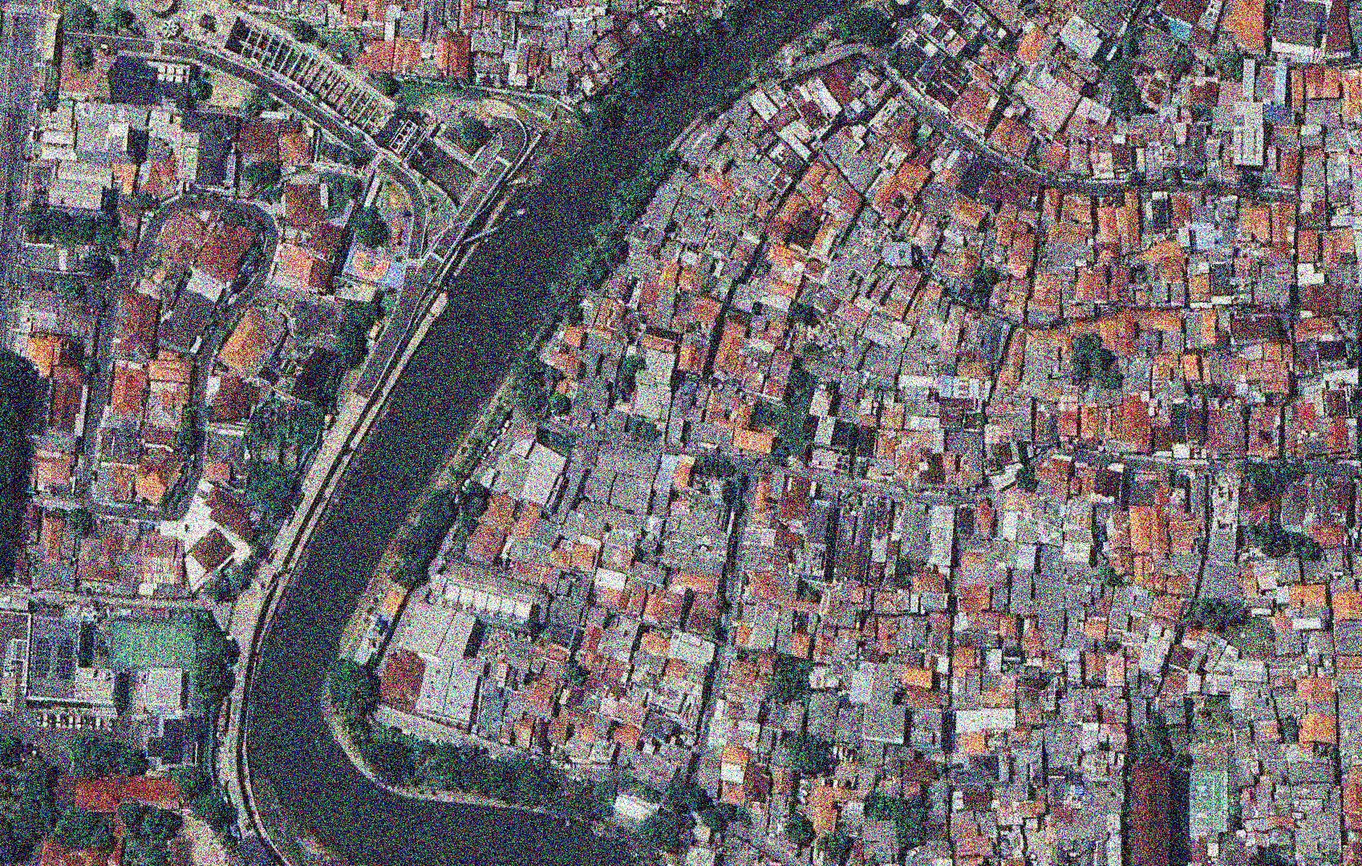building: (212, 8, 433, 168), (148, 496, 250, 597), (212, 301, 290, 386), (154, 273, 226, 363), (620, 666, 706, 730), (183, 476, 266, 542), (103, 53, 194, 111), (399, 601, 477, 668), (25, 618, 81, 710), (178, 113, 239, 197), (264, 288, 349, 348), (188, 215, 256, 289), (122, 434, 190, 508), (440, 581, 536, 633), (1126, 761, 1174, 865), (191, 368, 262, 438), (908, 3, 987, 65), (14, 286, 99, 343), (414, 658, 482, 728), (152, 198, 216, 268), (947, 75, 1012, 141), (1267, 0, 1332, 65), (111, 285, 161, 364), (1198, 527, 1247, 602), (917, 54, 977, 114), (290, 346, 345, 411), (130, 523, 183, 586), (200, 431, 249, 498), (1055, 14, 1115, 68), (376, 648, 426, 712), (943, 232, 991, 298), (867, 496, 902, 586), (889, 204, 945, 260), (71, 119, 139, 165), (1031, 79, 1084, 136), (145, 716, 203, 768), (976, 165, 1042, 210), (136, 138, 185, 198), (987, 113, 1042, 166), (1132, 26, 1188, 78), (827, 235, 881, 288), (546, 462, 589, 528), (1220, 0, 1271, 55), (968, 37, 1023, 88), (1033, 546, 1065, 633), (723, 164, 783, 210), (613, 744, 677, 787), (865, 646, 908, 710), (816, 115, 866, 170), (1018, 339, 1063, 400), (572, 497, 642, 536), (74, 530, 124, 584), (668, 493, 736, 532), (1293, 810, 1344, 862), (867, 174, 917, 227), (595, 440, 659, 481), (825, 501, 858, 580), (848, 205, 900, 255), (878, 262, 923, 319), (141, 378, 190, 430), (479, 449, 531, 498), (1009, 20, 1059, 70), (1199, 398, 1241, 457), (1302, 471, 1346, 527), (1118, 467, 1173, 511), (508, 435, 568, 475), (280, 176, 327, 227), (805, 212, 850, 265), (1232, 101, 1267, 169), (595, 612, 640, 664), (859, 309, 911, 354), (1279, 475, 1323, 528), (107, 361, 147, 419), (776, 114, 825, 161), (990, 760, 1037, 809), (121, 775, 184, 811), (72, 666, 121, 712), (1190, 627, 1239, 673), (996, 326, 1030, 392), (981, 439, 1024, 491), (970, 312, 1012, 365), (96, 417, 142, 465), (910, 46, 956, 94), (760, 348, 798, 406), (24, 241, 90, 274), (1186, 0, 1227, 53), (1150, 0, 1211, 35), (1246, 403, 1284, 459), (268, 243, 314, 289), (1081, 143, 1127, 189), (517, 464, 562, 511), (1056, 808, 1122, 840), (743, 568, 801, 604), (737, 340, 774, 396), (799, 414, 855, 451), (1299, 154, 1327, 228), (822, 178, 867, 224), (141, 670, 188, 714), (711, 332, 750, 385), (1076, 0, 1129, 39), (700, 385, 742, 434), (638, 182, 680, 231), (856, 258, 898, 307), (898, 502, 932, 562), (48, 383, 87, 435), (1051, 685, 1096, 730), (792, 150, 835, 197), (1323, 0, 1355, 63), (1069, 264, 1108, 315), (1127, 504, 1166, 555), (48, 180, 108, 213), (839, 150, 883, 195), (914, 175, 958, 220), (1134, 70, 1178, 115), (463, 521, 506, 567), (951, 755, 1009, 789), (805, 495, 843, 546), (899, 335, 943, 379), (580, 335, 623, 380), (943, 190, 989, 232), (238, 116, 279, 163), (630, 383, 671, 430), (1120, 394, 1152, 454), (946, 0, 996, 38), (11, 333, 54, 377), (635, 281, 676, 327), (1303, 548, 1356, 583), (572, 372, 616, 414), (305, 215, 346, 260), (861, 704, 906, 745), (803, 691, 839, 742), (1323, 369, 1362, 416), (926, 505, 955, 568), (954, 705, 1017, 734), (1242, 787, 1290, 825), (550, 538, 599, 575), (890, 38, 932, 81), (858, 341, 902, 382), (72, 776, 122, 812), (955, 155, 995, 200), (1115, 189, 1143, 253), (777, 475, 815, 522), (740, 525, 778, 572), (613, 249, 664, 284), (277, 121, 314, 169), (580, 43, 620, 87), (802, 75, 842, 119), (860, 819, 899, 864), (748, 601, 781, 654), (1229, 313, 1287, 343), (1293, 377, 1323, 435), (607, 475, 650, 515), (666, 632, 715, 667), (684, 592, 722, 637), (1325, 417, 1361, 464), (1218, 399, 1247, 457), (93, 463, 134, 504), (690, 755, 729, 798), (707, 719, 761, 750), (1209, 474, 1240, 528), (1245, 553, 1283, 597), (1291, 782, 1343, 814), (726, 657, 772, 693), (1270, 202, 1298, 261), (476, 491, 517, 531), (765, 137, 806, 177), (932, 218, 973, 258), (1124, 690, 1165, 730), (599, 531, 638, 573), (1135, 634, 1173, 677), (1233, 358, 1270, 402), (232, 829, 276, 866), (1227, 710, 1281, 740), (474, 690, 507, 739), (1016, 513, 1065, 546), (30, 450, 76, 485), (684, 423, 734, 455), (712, 694, 762, 726), (892, 431, 923, 482), (56, 161, 114, 188), (506, 538, 552, 572), (546, 570, 592, 604), (854, 60, 894, 99), (817, 66, 855, 107), (1139, 140, 1177, 181), (638, 712, 675, 754), (761, 242, 808, 275), (909, 709, 945, 752), (1111, 584, 1154, 620), (951, 822, 994, 858), (561, 512, 605, 547), (588, 297, 623, 341), (675, 333, 710, 377), (1060, 574, 1095, 618), (1040, 244, 1091, 274), (890, 118, 929, 157), (634, 348, 675, 385), (1178, 347, 1214, 389), (989, 0, 1031, 36), (939, 303, 969, 353), (796, 98, 834, 137), (1054, 839, 1111, 865), (941, 140, 978, 180), (1067, 461, 1103, 502), (985, 537, 1027, 572), (1091, 462, 1125, 505), (148, 352, 195, 383), (657, 585, 690, 629), (612, 308, 650, 346), (728, 273, 765, 312), (520, 673, 560, 709), (678, 174, 719, 209), (1255, 63, 1290, 104), (1074, 95, 1115, 130), (938, 375, 991, 402), (1149, 591, 1191, 625), (1282, 65, 1311, 114), (1079, 750, 1128, 779), (1328, 476, 1361, 519), (1298, 284, 1342, 316), (1135, 561, 1173, 598), (1002, 487, 1047, 518), (940, 398, 981, 432), (1167, 643, 1208, 677), (43, 844, 106, 866), (731, 428, 773, 461), (1121, 354, 1154, 396), (1081, 785, 1123, 818), (418, 36, 448, 82), (1113, 111, 1159, 141), (805, 377, 837, 420), (596, 31, 632, 69), (1177, 125, 1208, 169), (507, 501, 540, 542), (785, 213, 818, 254), (1178, 77, 1219, 110), (1327, 152, 1352, 206), (117, 195, 141, 251), (612, 794, 658, 823), (556, 684, 599, 715), (501, 636, 537, 673), (864, 97, 901, 133), (1029, 270, 1065, 307), (1062, 529, 1098, 566), (674, 213, 712, 248), (1170, 470, 1205, 508), (354, 39, 393, 73), (386, 6, 425, 40), (1023, 60, 1062, 94), (1293, 315, 1342, 342), (818, 269, 858, 302), (904, 284, 935, 326), (1134, 307, 1184, 333), (1336, 674, 1361, 726), (900, 685, 948, 712), (1162, 192, 1199, 227), (978, 15, 1015, 50), (559, 22, 597, 56), (1058, 192, 1096, 226), (1026, 327, 1072, 355), (695, 164, 734, 197), (1304, 66, 1343, 99), (798, 542, 831, 581), (599, 659, 631, 699), (638, 323, 678, 355), (1240, 492, 1280, 524), (667, 570, 718, 595), (834, 707, 865, 748), (741, 762, 772, 803), (1252, 278, 1293, 309), (37, 517, 64, 564), (616, 16, 652, 51), (895, 157, 931, 192), (776, 191, 811, 227), (848, 660, 876, 705), (1010, 397, 1038, 442), (687, 295, 724, 329), (918, 292, 952, 329), (1168, 520, 1205, 554), (1015, 81, 1052, 115), (750, 470, 772, 527), (303, 256, 335, 295), (1097, 686, 1129, 725), (1028, 0, 1082, 23), (1284, 431, 1328, 459), (1103, 507, 1131, 551), (1006, 713, 1040, 749), (1076, 775, 1127, 799), (1046, 222, 1093, 248), (1291, 340, 1324, 377), (693, 528, 731, 560), (1160, 691, 1192, 729), (1208, 261, 1235, 306), (1058, 387, 1080, 442), (1303, 98, 1343, 128), (1298, 714, 1338, 744), (560, 85, 594, 120), (662, 520, 696, 555), (1242, 204, 1271, 245), (581, 468, 614, 504), (1107, 263, 1134, 307), (1258, 362, 1291, 398), (1147, 504, 1169, 558), (860, 168, 891, 206), (989, 217, 1027, 248), (1321, 229, 1352, 267), (1019, 616, 1047, 658), (1009, 570, 1034, 617), (145, 111, 184, 141), (1034, 402, 1060, 447), (1229, 685, 1272, 712), (567, 435, 601, 469), (1011, 729, 1045, 763), (52, 338, 87, 371), (526, 516, 561, 549), (877, 141, 910, 176), (761, 214, 794, 249), (1151, 395, 1187, 427), (842, 579, 878, 611), (1209, 104, 1246, 135), (548, 598, 586, 628), (552, 705, 590, 735), (656, 740, 694, 770), (1340, 67, 1361, 121), (1285, 745, 1339, 766), (1045, 745, 1084, 774), (1188, 471, 1211, 520), (808, 286, 842, 319), (956, 568, 1015, 587), (689, 475, 729, 503), (977, 235, 1012, 267), (883, 744, 915, 779), (651, 451, 677, 494), (1142, 238, 1185, 264), (840, 334, 871, 370), (1234, 741, 1287, 762), (951, 668, 981, 705), (628, 560, 669, 587), (735, 602, 759, 648), (1287, 761, 1335, 784), (1061, 633, 1109, 656), (1206, 139, 1231, 183), (258, 441, 297, 469), (744, 151, 777, 184), (1001, 246, 1034, 279), (572, 66, 604, 100), (757, 291, 792, 322), (1211, 643, 1242, 678), (1218, 834, 1253, 865), (1156, 554, 1203, 577), (843, 789, 867, 834), (668, 380, 694, 421), (1286, 583, 1327, 609), (856, 132, 889, 164), (1061, 110, 1093, 143), (984, 391, 1016, 424), (1063, 499, 1096, 531), (1180, 623, 1214, 654), (1026, 300, 1065, 327), (844, 544, 871, 583), (926, 249, 956, 284), (835, 299, 870, 329), (717, 742, 752, 772), (112, 556, 138, 596), (872, 617, 898, 657), (1043, 135, 1069, 175), (392, 40, 420, 77), (38, 430, 81, 454), (1292, 654, 1335, 678), (1161, 671, 1204, 695), (36, 562, 74, 589), (685, 382, 710, 423), (1095, 204, 1120, 245), (600, 270, 631, 303), (703, 227, 736, 258), (493, 663, 527, 693), (956, 728, 990, 758), (138, 424, 177, 450), (1066, 139, 1092, 178), (1097, 314, 1123, 353), (973, 495, 996, 539), (503, 46, 527, 88), (511, 560, 547, 588), (612, 700, 648, 728), (682, 555, 724, 579), (1149, 191, 1173, 233), (1185, 272, 1213, 308), (1016, 686, 1056, 711), (630, 648, 667, 675), (1066, 56, 1103, 83), (1189, 834, 1221, 865), (705, 273, 735, 306), (1277, 149, 1301, 190), (956, 585, 991, 613), (1296, 677, 1335, 702), (1036, 455, 1072, 482), (108, 815, 127, 866), (747, 89, 778, 120), (766, 103, 798, 133), (765, 764, 795, 796), (1219, 147, 1243, 187), (535, 67, 568, 96), (501, 689, 530, 722), (638, 627, 671, 656), (836, 367, 865, 400), (588, 735, 616, 769), (1333, 621, 1361, 655), (1145, 617, 1179, 645), (9, 551, 34, 589), (572, 650, 607, 677), (718, 198, 753, 225), (903, 404, 938, 431), (591, 586, 630, 610), (766, 265, 802, 291), (1080, 119, 1116, 145), (739, 114, 769, 145), (1135, 326, 1166, 356), (609, 719, 641, 748), (1121, 630, 1150, 662), (671, 454, 696, 491), (782, 699, 807, 736), (1269, 654, 1306, 679), (473, 54, 501, 87), (641, 549, 685, 570), (549, 353, 582, 381), (1101, 406, 1123, 448), (1151, 354, 1185, 381), (832, 630, 859, 664), (21, 505, 40, 553), (1040, 186, 1064, 224), (854, 505, 875, 548), (547, 622, 577, 652), (1230, 277, 1260, 307), (108, 163, 136, 195), (1155, 255, 1187, 283), (982, 416, 1014, 444), (592, 568, 626, 594), (827, 312, 861, 338), (731, 840, 765, 866), (1089, 582, 1115, 616), (1080, 406, 1101, 448), (926, 782, 948, 822), (945, 432, 983, 455), (724, 104, 753, 134), (1331, 591, 1361, 620), (562, 734, 593, 762), (533, 643, 569, 667), (732, 140, 759, 172), (1001, 292, 1028, 324), (1192, 195, 1219, 227), (772, 549, 804, 576), (448, 38, 468, 81), (876, 431, 896, 474), (818, 582, 840, 621), (1163, 499, 1196, 525), (732, 394, 755, 431), (1232, 661, 1269, 684), (981, 671, 1018, 694), (919, 449, 944, 483), (1190, 222, 1219, 251), (1185, 253, 1214, 282), (1186, 401, 1206, 443), (1305, 630, 1336, 657), (995, 801, 1026, 828), (512, 712, 534, 750), (1339, 726, 1361, 764), (773, 525, 805, 551), (1253, 718, 1285, 744), (1049, 726, 1081, 752), (1259, 261, 1295, 284), (1296, 229, 1321, 262), (1205, 242, 1238, 267), (1084, 653, 1109, 686), (911, 572, 945, 596), (529, 659, 566, 681), (955, 359, 992, 381), (765, 167, 793, 196), (1275, 556, 1303, 585), (1274, 629, 1304, 656), (656, 260, 682, 291), (1326, 263, 1361, 286), (720, 302, 752, 327), (951, 791, 991, 811), (1047, 775, 1072, 807), (1092, 263, 1113, 301), (853, 425, 877, 458), (1315, 339, 1348, 363), (764, 81, 792, 109), (832, 57, 860, 85), (662, 166, 689, 195), (794, 278, 820, 308), (1271, 124, 1301, 150), (882, 243, 913, 268), (747, 800, 772, 831), (1170, 402, 1188, 445), (763, 278, 798, 300), (1063, 652, 1085, 687), (1079, 688, 1101, 723), (708, 211, 740, 235), (1037, 479, 1069, 503), (1348, 0, 1361, 59), (859, 742, 882, 775), (1238, 341, 1266, 368), (1203, 673, 1239, 694), (1216, 194, 1242, 223), (578, 624, 603, 654), (951, 645, 981, 670), (899, 666, 933, 688), (640, 594, 664, 625), (1349, 154, 1361, 216), (531, 718, 551, 755), (897, 374, 938, 392), (622, 279, 645, 311), (807, 666, 839, 689), (1242, 59, 1259, 102), (751, 127, 778, 154), (1013, 544, 1040, 571), (704, 113, 730, 141), (818, 166, 844, 194), (855, 401, 881, 429), (1275, 697, 1308, 719), (668, 194, 693, 223), (848, 290, 877, 315), (1270, 680, 1299, 705), (684, 845, 718, 866), (1313, 524, 1345, 546), (1295, 606, 1332, 625), (840, 97, 867, 123), (801, 256, 828, 282), (1214, 308, 1232, 347), (1185, 310, 1203, 349), (1103, 0, 1142, 18), (747, 328, 782, 348), (1113, 334, 1141, 359), (341, 2, 365, 31), (622, 590, 646, 619), (931, 166, 960, 190), (810, 637, 834, 666), (1324, 128, 1353, 152), (1105, 654, 1126, 687), (1150, 422, 1173, 452), (1165, 573, 1195, 596), (955, 501, 974, 537), (901, 761, 935, 781), (299, 2, 325, 28), (586, 712, 612, 738), (691, 132, 717, 158), (675, 268, 702, 293), (722, 122, 749, 147), (934, 133, 959, 160), (1082, 614, 1109, 639), (528, 48, 549, 80), (1216, 81, 1244, 105), (769, 472, 793, 500), (1261, 759, 1289, 783), (1234, 759, 1258, 787), (426, 0, 444, 37), (1152, 381, 1189, 399), (496, 11, 516, 44), (1240, 565, 1260, 598), (1067, 607, 1089, 637), (987, 280, 1008, 311), (1056, 68, 1087, 89), (704, 147, 730, 172), (672, 292, 696, 319), (658, 239, 682, 266), (812, 807, 836, 834), (1109, 609, 1133, 636), (1140, 674, 1167, 698), (1214, 352, 1233, 386), (982, 690, 1016, 709), (546, 717, 569, 745), (1296, 262, 1324, 285), (1234, 257, 1262, 280), (1117, 311, 1140, 339), (1001, 828, 1024, 856), (1263, 105, 1295, 125), (1304, 699, 1336, 719), (1339, 286, 1361, 315), (1263, 342, 1292, 364), (1111, 548, 1133, 577), (1342, 832, 1361, 865), (786, 83, 811, 108), (684, 149, 710, 173), (879, 404, 905, 428), (769, 795, 795, 819), (1159, 331, 1186, 354), (865, 372, 896, 392), (458, 654, 486, 676), (1111, 144, 1133, 172), (837, 605, 865, 627), (1236, 243, 1274, 259), (1342, 783, 1361, 815), (595, 692, 619, 717), (562, 325, 587, 349), (717, 136, 742, 160), (885, 106, 909, 131), (895, 589, 919, 614), (1301, 124, 1326, 148), (1096, 241, 1121, 265), (1041, 631, 1064, 657), (1041, 819, 1064, 845), (59, 524, 76, 559), (895, 616, 913, 649), (874, 776, 901, 798), (790, 633, 812, 660), (1201, 310, 1217, 347), (1001, 511, 1020, 542), (1244, 593, 1275, 612), (968, 612, 999, 631), (1133, 554, 1153, 583), (50, 366, 82, 384), (603, 408, 627, 432), (1259, 814, 1295, 830), (682, 661, 707, 684), (765, 317, 791, 339), (872, 592, 898, 614), (1166, 281, 1188, 307), (55, 107, 74, 137), (665, 417, 684, 447), (1070, 318, 1100, 337), (539, 30, 566, 51), (902, 386, 935, 403), (1329, 576, 1362, 593), (131, 607, 171, 621), (1094, 387, 1122, 407), (780, 598, 820, 612), (42, 128, 73, 146), (584, 606, 608, 629), (720, 781, 743, 805), (999, 613, 1022, 637), (1022, 656, 1045, 680), (1151, 280, 1173, 305), (566, 403, 592, 424), (736, 224, 762, 245), (989, 586, 1010, 612), (1060, 276, 1076, 310), (650, 492, 670, 519), (1255, 779, 1275, 806), (1081, 722, 1099, 752), (919, 592, 947, 611), (909, 621, 928, 649), (806, 183, 829, 206), (42, 144, 75, 160), (719, 260, 743, 282), (1329, 213, 1362, 229), (955, 612, 971, 645), (1105, 832, 1121, 865), (727, 246, 752, 267), (731, 235, 756, 256), (928, 612, 949, 637), (1003, 638, 1024, 663), (641, 515, 664, 537), (751, 199, 774, 221), (1220, 221, 1241, 245), (971, 631, 999, 649), (922, 821, 947, 841), (719, 762, 744, 782), (1240, 800, 1265, 820), (967, 454, 982, 487), (515, 28, 541, 47), (722, 320, 748, 339), (847, 839, 866, 865), (610, 8, 632, 30), (662, 659, 685, 680), (926, 129, 947, 152), (913, 144, 934, 167), (1292, 617, 1329, 630), (359, 23, 383, 43), (514, 421, 538, 441), (1021, 799, 1045, 819), (1011, 233, 1036, 252), (1336, 655, 1361, 674), (977, 811, 996, 836), (1040, 654, 1066, 672), (326, 1, 342, 30), (578, 672, 600, 693), (638, 533, 660, 554), (693, 251, 714, 273), (845, 77, 867, 98), (926, 633, 947, 655), (1274, 609, 1295, 631), (745, 312, 768, 332), (1133, 284, 1153, 307), (1107, 727, 1127, 750), (774, 632, 793, 656), (470, 39, 502, 53), (516, 15, 544, 31), (942, 451, 956, 483), (959, 551, 985, 568), (738, 191, 759, 212), (686, 200, 708, 220), (746, 215, 768, 235), (813, 786, 833, 808), (937, 352, 957, 374), (365, 1, 388, 20), (1015, 206, 1038, 225), (860, 615, 879, 638), (1, 596, 30, 611), (269, 2, 298, 17), (499, 717, 514, 746), (649, 7, 667, 31), (1161, 123, 1178, 148), (1008, 276, 1029, 296), (1126, 129, 1146, 150), (1131, 616, 1152, 636), (689, 824, 711, 843), (445, 1, 458, 33), (569, 16, 595, 32), (814, 622, 837, 640), (1267, 829, 1291, 846), (959, 540, 993, 552), (1133, 147, 1147, 176), (676, 248, 696, 268), (901, 781, 921, 801), (1178, 225, 1194, 250), (1052, 808, 1077, 824), (1245, 821, 1264, 842), (1302, 146, 1324, 164), (993, 203, 1016, 220), (986, 649, 1003, 672), (104, 605, 130, 620), (479, 12, 494, 38), (544, 16, 568, 32), (593, 14, 613, 33), (627, 222, 647, 241), (641, 13, 659, 34), (643, 228, 664, 246), (1178, 105, 1196, 126), (611, 0, 636, 15), (956, 455, 967, 488), (565, 55, 584, 74), (735, 100, 754, 119), (553, 8, 583, 20), (727, 183, 745, 203), (1162, 105, 1182, 123), (710, 191, 727, 212), (1344, 811, 1361, 832), (1174, 123, 1190, 145), (1348, 128, 1361, 155), (63, 603, 82, 621), (1082, 386, 1100, 405), (461, 1, 471, 35), (955, 855, 989, 865), (537, 1, 565, 13), (857, 646, 878, 662), (1346, 764, 1361, 786), (79, 606, 98, 623), (549, 51, 566, 70), (156, 586, 184, 597), (917, 121, 934, 139), (922, 653, 938, 672), (1141, 126, 1160, 142), (1275, 585, 1290, 605), (951, 811, 976, 823), (831, 786, 848, 803), (670, 316, 688, 332), (554, 376, 569, 395), (936, 654, 950, 674), (1032, 756, 1043, 781), (875, 123, 892, 139), (906, 651, 922, 668), (1002, 855, 1028, 865), (932, 430, 943, 452), (920, 429, 932, 449), (1274, 789, 1291, 803), (710, 259, 723, 277), (644, 242, 658, 258), (137, 585, 154, 598), (585, 6, 603, 18), (1104, 723, 1126, 732), (932, 856, 953, 865), (1274, 784, 1291, 795), (584, 0, 607, 8), (488, 1, 506, 11), (640, 744, 655, 756), (522, 1, 535, 14), (506, 1, 521, 12), (471, 0, 487, 10), (570, 0, 584, 6)
tree: (383, 482, 464, 592), (601, 138, 682, 229), (609, 24, 689, 110), (350, 724, 434, 794), (492, 750, 566, 817), (21, 206, 124, 252), (1236, 440, 1307, 504), (67, 727, 148, 781), (200, 548, 267, 612), (241, 458, 306, 523), (190, 610, 233, 706), (416, 739, 486, 797), (860, 787, 932, 841), (14, 755, 60, 838), (544, 776, 616, 828), (459, 747, 525, 803), (558, 237, 618, 298), (691, 68, 760, 121), (1178, 592, 1253, 639), (1066, 329, 1120, 393), (635, 804, 698, 858), (323, 658, 380, 716), (280, 398, 332, 455), (1097, 56, 1142, 121), (956, 258, 1008, 314), (51, 807, 115, 852), (783, 726, 836, 780), (345, 201, 398, 252), (656, 19, 711, 68), (1128, 713, 1179, 764), (831, 2, 891, 45), (445, 431, 492, 485), (1246, 528, 1324, 560), (585, 212, 634, 262), (450, 106, 499, 155), (774, 805, 823, 854), (767, 655, 814, 706), (660, 775, 711, 819), (0, 358, 30, 427), (813, 819, 858, 865), (607, 350, 646, 403), (332, 320, 372, 371), (511, 349, 545, 408), (119, 805, 179, 838), (780, 366, 821, 414), (186, 787, 231, 828), (233, 83, 280, 122), (171, 760, 213, 801), (604, 773, 661, 803), (0, 486, 24, 556), (542, 277, 580, 321), (0, 429, 27, 490), (793, 22, 834, 62), (61, 500, 101, 540), (748, 399, 790, 437), (50, 267, 89, 307), (474, 400, 510, 442), (156, 480, 195, 518), (249, 412, 290, 448), (0, 817, 30, 864), (455, 481, 492, 519), (698, 802, 740, 834), (284, 11, 320, 47), (586, 95, 622, 131), (341, 299, 384, 329), (895, 808, 926, 847), (689, 8, 724, 42), (125, 840, 171, 865), (786, 300, 822, 330), (340, 714, 377, 743), (370, 67, 403, 99), (82, 252, 117, 282), (1217, 45, 1247, 80), (242, 160, 280, 187), (62, 0, 97, 29), (1118, 23, 1143, 63), (764, 439, 796, 470), (1093, 562, 1125, 593), (696, 455, 737, 479), (321, 171, 363, 194), (184, 73, 215, 104), (627, 416, 662, 443), (561, 659, 592, 688), (0, 730, 24, 766), (544, 429, 577, 454), (175, 415, 197, 452), (214, 822, 242, 851), (452, 509, 481, 537), (1236, 167, 1264, 195), (800, 337, 830, 363), (1161, 165, 1197, 186), (1022, 144, 1049, 172), (750, 57, 779, 82), (242, 242, 267, 269), (257, 182, 286, 205), (220, 208, 251, 229), (71, 44, 95, 71), (722, 2, 746, 29), (1015, 463, 1037, 491), (110, 6, 135, 29), (135, 192, 163, 212), (341, 148, 366, 170), (1200, 383, 1234, 398), (915, 0, 950, 14), (548, 393, 570, 415), (251, 537, 272, 559), (733, 468, 754, 490), (36, 92, 60, 111), (544, 365, 568, 384), (1125, 169, 1147, 187), (1346, 337, 1361, 362), (83, 356, 99, 374), (316, 35, 330, 50)
